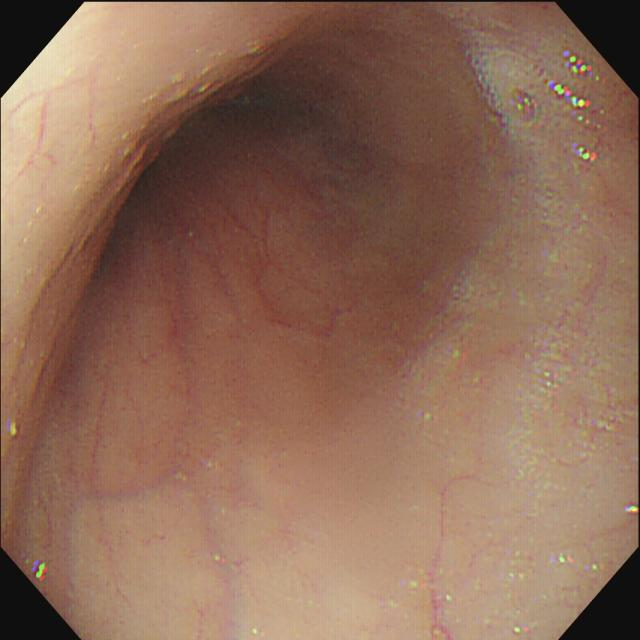E: (112, 51, 302, 252)
T: (466, 14, 552, 169), (526, 331, 568, 427)
U: (550, 45, 604, 167)
